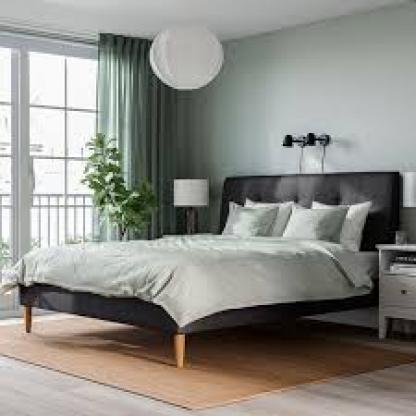Bed: (22, 170, 398, 372)
Curtains: (92, 29, 188, 246)
Nightstand: (375, 242, 416, 341)
